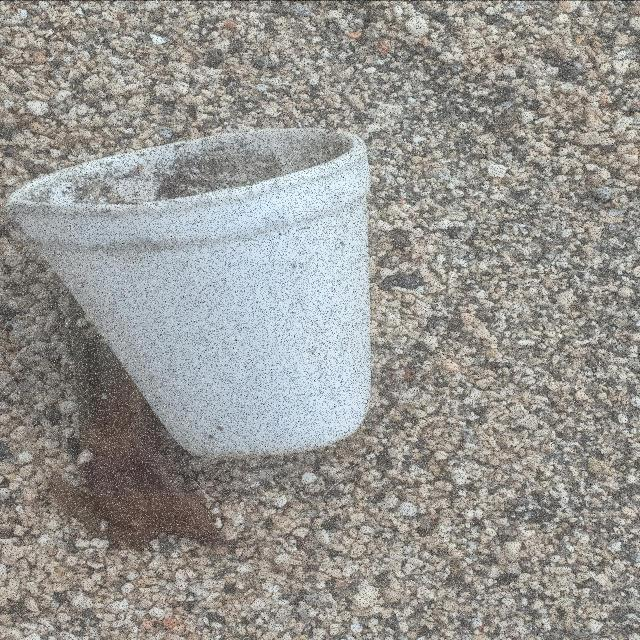styrofoam_waste: (5, 126, 376, 463)
